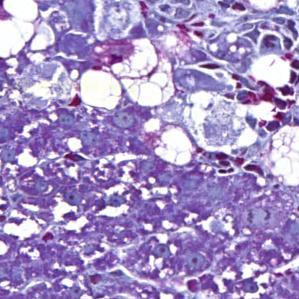ballooning: (104, 37, 176, 109)
